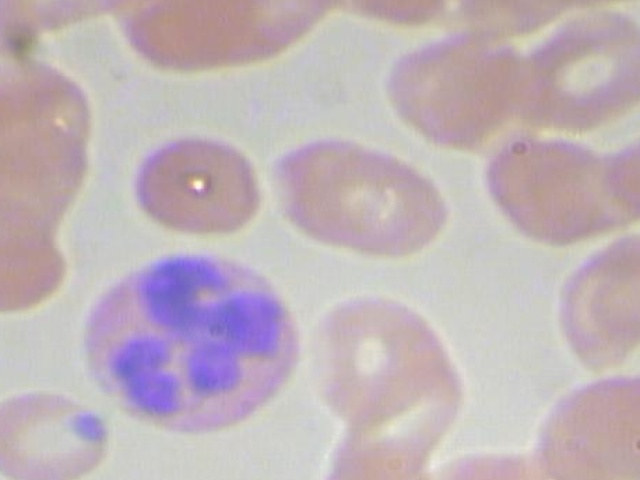RBC: (303, 281, 445, 427), (507, 7, 640, 137), (377, 23, 512, 149), (314, 143, 449, 262), (260, 130, 396, 247), (130, 134, 267, 239), (110, 0, 262, 73), (0, 382, 112, 480), (580, 361, 640, 480), (598, 122, 640, 227), (634, 215, 640, 307)
WBC: (84, 241, 304, 439)
